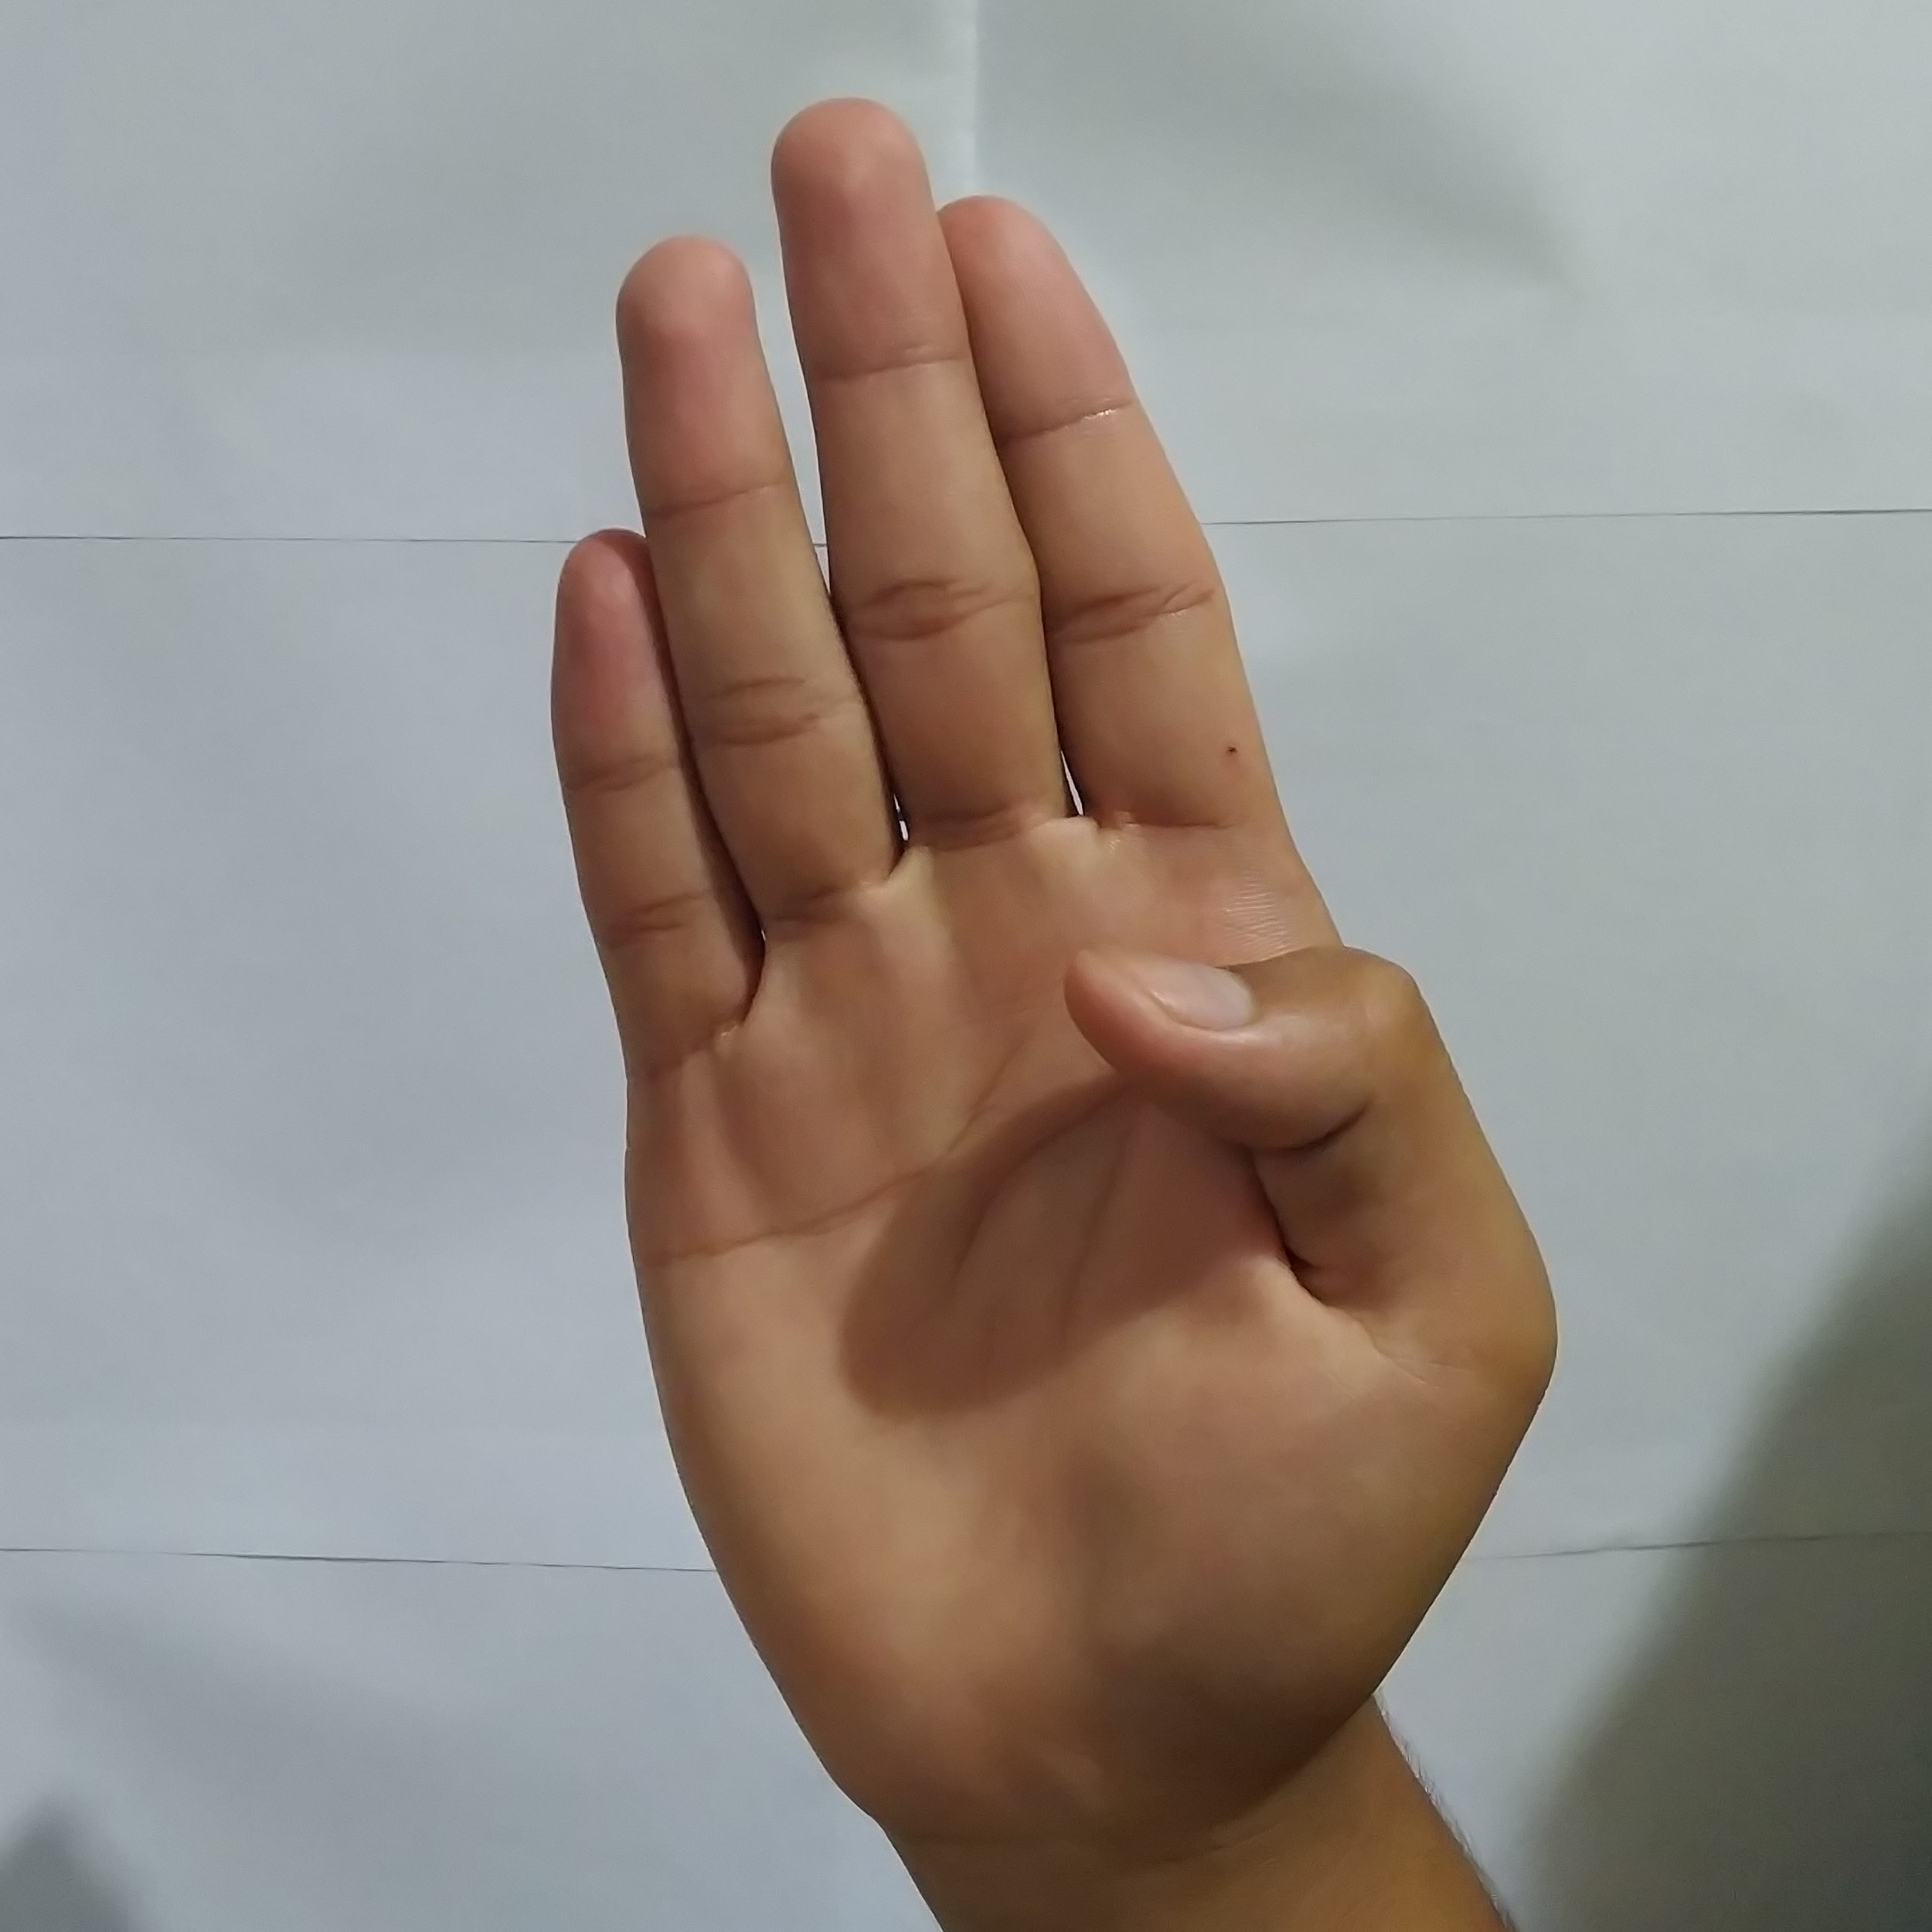B: (517, 78, 1585, 1840)
